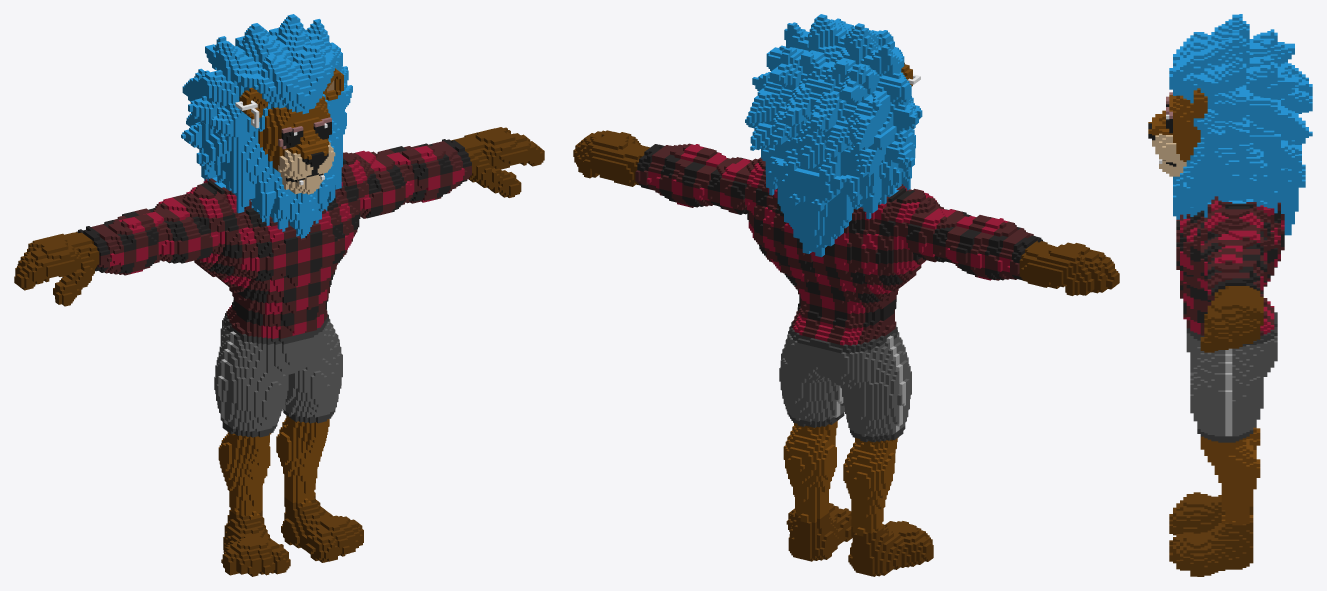
The model's file is 1069-FLHcWYNk.fbx.
3 renders of one model, left to right at view 1: azimuth 30°, elevation 25°; view 2: azimuth 150°, elevation 25°; view 3: azimuth 270°, elevation 25°, orthographic. The views are drawn at different scales.
Visible parts, largest first — view 1: standard; view 2: standard; view 3: standard.
Boxes of the visible parts, bbox=[...] form: standard: bbox=[14, 14, 544, 576]; standard: bbox=[573, 14, 1119, 576]; standard: bbox=[1148, 14, 1312, 576].
Bounding box in the file's own units: 17.2 × 16.5 × 4.7.
6 materials, 6 textured.
